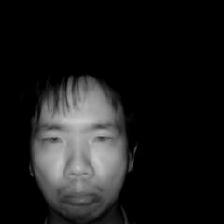sad: (14, 55, 141, 223)
